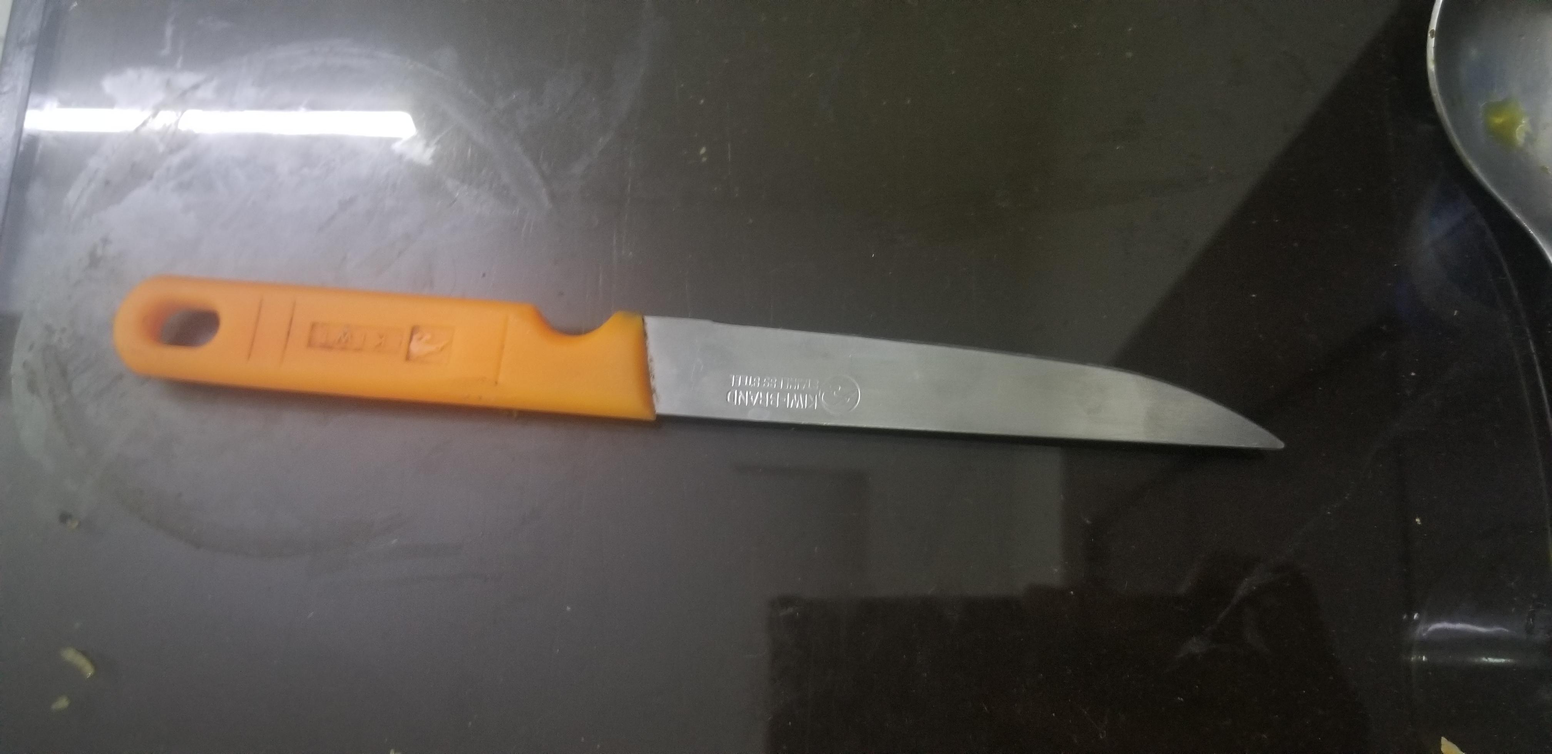knives: (589, 52, 1031, 640)
